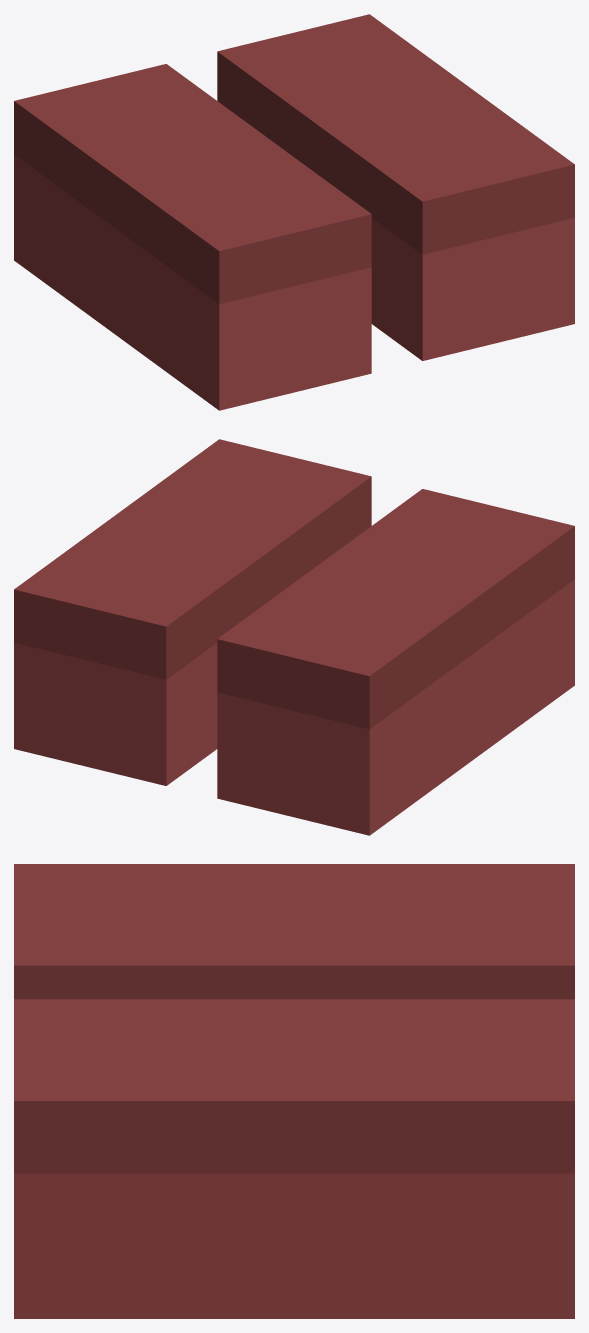
File: legendario_zapatos_bandido_01.glb
3 views of the same model, one above another, from view 1: azimuth 30°, elevation 25°; view 2: azimuth 150°, elevation 25°; view 3: azimuth 270°, elevation 25° (orthographic). The views are drawn at different scales.
Parts seen in each view (by area): view 1: legendario_zapatos_bandido; view 2: legendario_zapatos_bandido; view 3: legendario_zapatos_bandido.
Boxes of the visible parts, left/top/right/bottom form: legendario_zapatos_bandido: left=14, top=14, right=574, bottom=410; legendario_zapatos_bandido: left=14, top=439, right=574, bottom=835; legendario_zapatos_bandido: left=14, top=864, right=574, bottom=1318.
Bounding box in the file's own units: 0.5833 × 0.25 × 0.5833.
